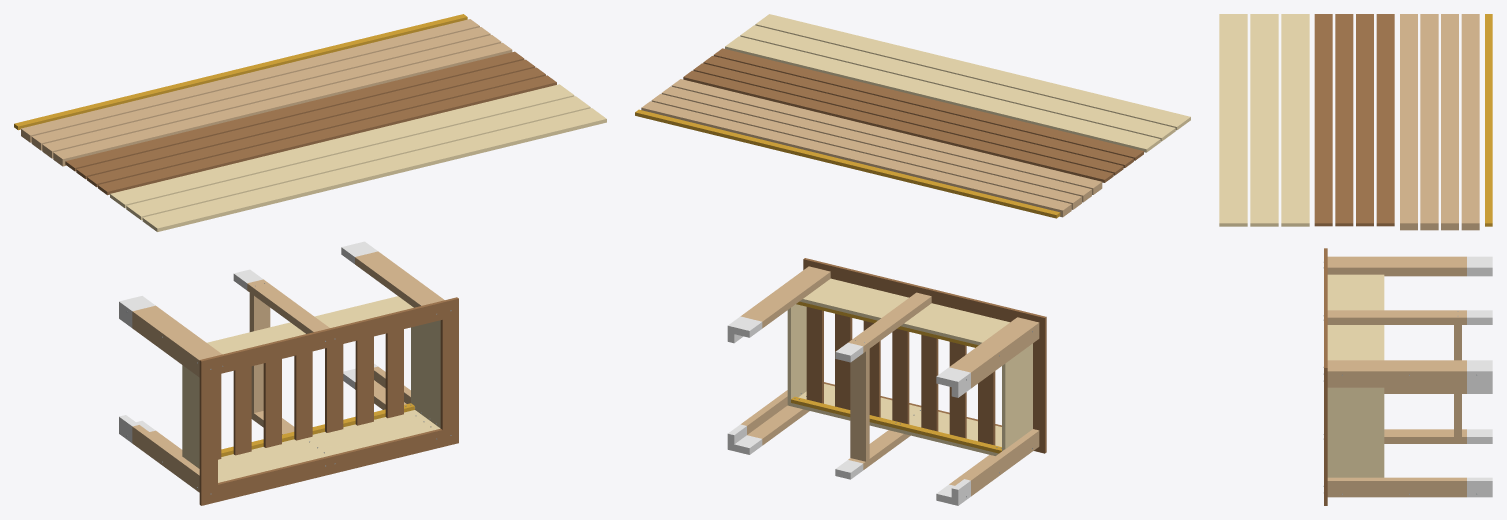
Rendered from tinker.obj.
3 renders of one model, left to right at view 1: azimuth 30°, elevation 25°; view 2: azimuth 150°, elevation 25°; view 3: azimuth 270°, elevation 25°, orthographic. The views are drawn at different scales.
Visible parts, largest first — view 1: group_0_11107152, group_0_16311991, group_0_14860437, group_0_14789940, group_0_16448250; view 2: group_0_11107152, group_0_16311991, group_0_14860437, group_0_14789940, group_0_16448250; view 3: group_0_14860437, group_0_16311991, group_0_11107152, group_0_16448250, group_0_14789940.
Boxes of the visible parts, x1,y1,x2,y2 form: group_0_11107152: (65, 51, 556, 505); group_0_16311991: (110, 84, 606, 482); group_0_14860437: (21, 19, 512, 492); group_0_14789940: (14, 14, 467, 456); group_0_16448250: (119, 241, 377, 442); group_0_11107152: (683, 48, 1143, 453); group_0_16311991: (725, 14, 1190, 455); group_0_14860437: (641, 79, 1102, 496); group_0_14789940: (635, 109, 1060, 453); group_0_16448250: (727, 316, 970, 505); group_0_14860437: (1327, 14, 1479, 497); group_0_16311991: (1219, 14, 1384, 477); group_0_11107152: (1314, 14, 1394, 505); group_0_16448250: (1467, 256, 1492, 497); group_0_14789940: (1485, 14, 1492, 226).
Size of the model in its own units: 96 by 69.75 by 53.
